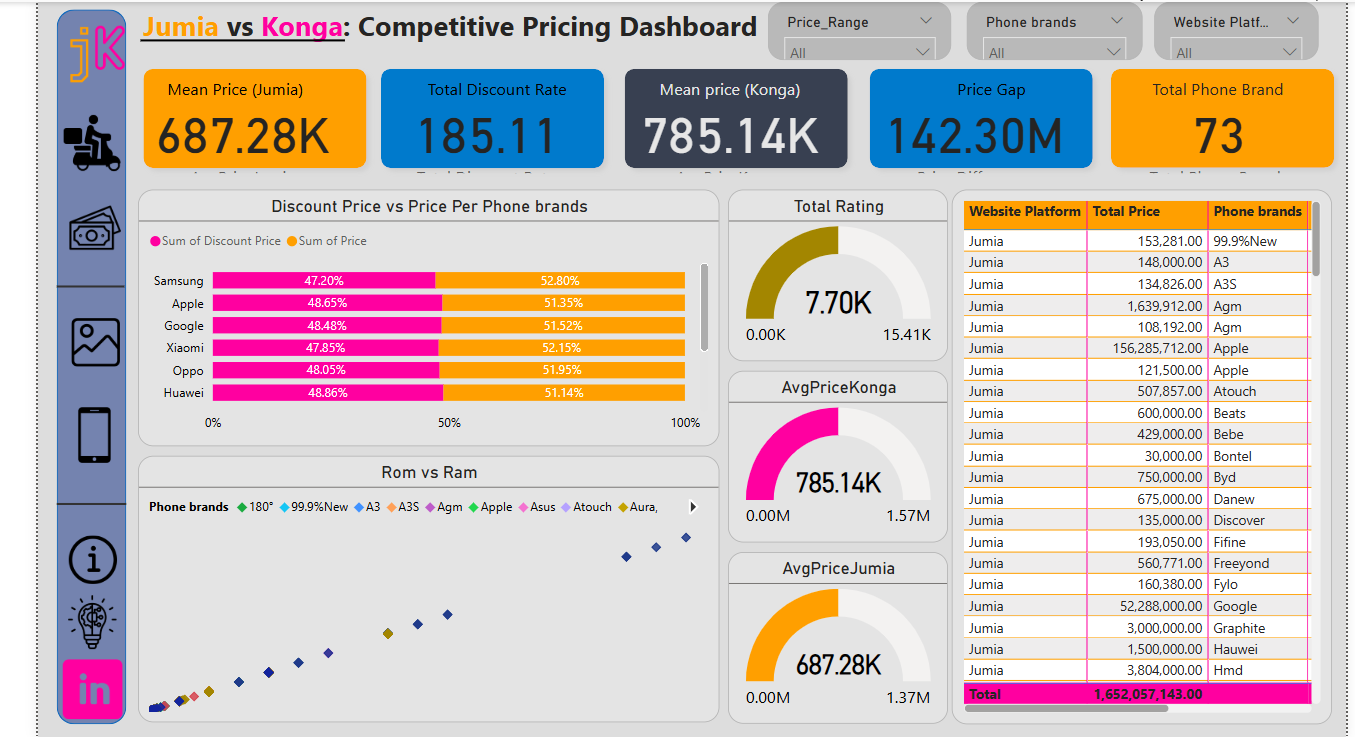

This screenshot's page, from the dashboard's own definition file:
{"tool":"powerbi","page":{"name":"Product Insights","canvas":[1280,720],"ordinal":1},"visuals":[{"type":"shape","box":[94.5,56.7,236.2,115.3],"z":0},{"type":"shape","box":[326,56.7,236.2,115.3],"z":1000},{"type":"shape","box":[565,56.7,236.2,115.3],"z":2000},{"type":"shape","box":[804.1,56.7,236.2,115.3],"z":3000},{"type":"shape","box":[1041.2,56.7,236.4,115],"z":4000},{"type":"shape","box":[18.9,7.6,68,699.2],"z":5000},{"type":"hundredPercentStackedBarChart","title":"Discount Price vs Price Per Phone brands","fields":{"Category":["smartphones.Phone brands"],"Y":["Sum(smartphones.Discount Price)","Sum(smartphones.Price)"]},"box":[98.3,183.3,568.8,251.3],"z":6000},{"type":"scatterChart","title":"Rom vs Ram","fields":{"X":["Sum(smartphones.RAM)"],"Y":["Sum(smartphones.ROM)"],"Category":["smartphones.Phone Names"],"Series":["smartphones.Phone brands"]},"box":[98.3,444.1,568.8,260.8],"z":7000},{"type":"image","box":[9.4,638.7,86.9,68],"z":8000},{"type":"image","box":[22.7,387.4,64.3,71.8],"z":9000},{"type":"image","box":[5.7,517.8,94.5,56.7],"z":10000},{"type":"image","box":[28.3,304.3,56.7,56.7],"z":11000},{"type":"image","box":[17,574.5,71.8,64.3],"z":12000},{"type":"shape","box":[18.9,222,66.1,111.5],"z":13000},{"type":"image","box":[17,190.9,77.5,60.5],"z":14000},{"type":"image","box":[7.6,103.9,92.6,68],"z":15000},{"type":"shape","box":[18.9,435.1,68,111.5],"z":16000},{"type":"image","box":[0,0,81.3,103.9],"z":17000},{"type":"image","box":[43.5,0,52.9,88.8],"z":18000},{"type":"textbox","box":[98.3,0,757.8,52.9],"z":19000},{"type":"card","fields":{"Values":["smartphones.AvgPriceKonga"]},"box":[564.1,100.2,226.8,71.8],"z":20000},{"type":"textbox","box":[100.2,68,185.2,115.3],"z":21000},{"type":"card","fields":{"Values":["smartphones.AvgPriceJumia"]},"box":[86.9,100.2,226.8,71.8],"z":22000},{"type":"textbox","box":[1041.3,68,224.9,37.8],"z":23000},{"type":"textbox","box":[530.1,68,294.8,39.7],"z":24000},{"type":"card","fields":{"Values":["smartphones.Total Discount Rate"]},"box":[325.5,100.2,226.8,71.8],"z":25000},{"type":"textbox","box":[326.9,68,245.7,68],"z":26000},{"type":"card","fields":{"Values":["smartphones.Price Difference"]},"box":[802.7,100.2,226.8,71.8],"z":27000},{"type":"textbox","box":[782.8,68,300.5,37.8],"z":28000},{"type":"card","fields":{"Values":["smartphones.Total Phone Brands"]},"box":[1041.3,100.2,226.8,71.8],"z":29000},{"type":"slicer","fields":{"Values":["smartphones.Price_Range"]},"box":[714.3,0,179.5,56.7],"z":30000},{"type":"slicer","fields":{"Values":["smartphones.Phone brands"]},"box":[909,0,172,56.7],"z":31000},{"type":"slicer","fields":{"Values":["smartphones.Website Platform"]},"box":[1092.3,0,160.6,56.7],"z":32000},{"type":"tableEx","fields":{"Values":["smartphones.Website Platform","smartphones.Total Price","smartphones.Phone brands","Sum(smartphones.Discount Price)","smartphones.Price_Range"]},"box":[893.9,183.3,372.3,523.5],"z":33000},{"type":"gauge","fields":{"Y":["smartphones.Total Rating"]},"box":[674.7,183.3,215.4,168.2],"z":34000},{"type":"gauge","fields":{"Y":["smartphones.AvgPriceKonga"]},"box":[674.7,360.9,215.4,168.2],"z":35000},{"type":"gauge","fields":{"Y":["smartphones.AvgPriceJumia"]},"box":[674.7,538.6,215.4,168.2],"z":36000},{"type":"shape","box":[100.2,7.6,200.3,60.5],"z":37000}]}

Visuals, with their boxes on the page's 1280x720 design canvas (x1, y1, x2, y2). These are canvas units, not pixel positions in the 1355x737 screenshot, which may show the page scaled, cropped or inside an application window:
shape: 94:57:331:172
shape: 326:57:562:172
shape: 565:57:801:172
shape: 804:57:1040:172
shape: 1041:57:1278:172
shape: 19:8:87:707
"Discount Price vs Price Per Phone brands" hundredPercentStackedBarChart: 98:183:667:435
"Rom vs Ram" scatterChart: 98:444:667:705
image: 9:639:96:707
image: 23:387:87:459
image: 6:518:100:574
image: 28:304:85:361
image: 17:574:89:639
shape: 19:222:85:334
image: 17:191:94:251
image: 8:104:100:172
shape: 19:435:87:547
image: 0:0:81:104
image: 44:0:96:89
textbox: 98:0:856:53
card - smartphones.AvgPriceKonga: 564:100:791:172
textbox: 100:68:285:183
card - smartphones.AvgPriceJumia: 87:100:314:172
textbox: 1041:68:1266:106
textbox: 530:68:825:108
card - smartphones.Total Discount Rate: 326:100:552:172
textbox: 327:68:573:136
card - smartphones.Price Difference: 803:100:1030:172
textbox: 783:68:1083:106
card - smartphones.Total Phone Brands: 1041:100:1268:172
slicer - smartphones.Price_Range: 714:0:894:57
slicer - smartphones.Phone brands: 909:0:1081:57
slicer - smartphones.Website Platform: 1092:0:1253:57
tableEx - smartphones.Website Platform x smartphones.Total Price: 894:183:1266:707
gauge - smartphones.Total Rating: 675:183:890:352
gauge - smartphones.AvgPriceKonga: 675:361:890:529
gauge - smartphones.AvgPriceJumia: 675:539:890:707
shape: 100:8:300:68
